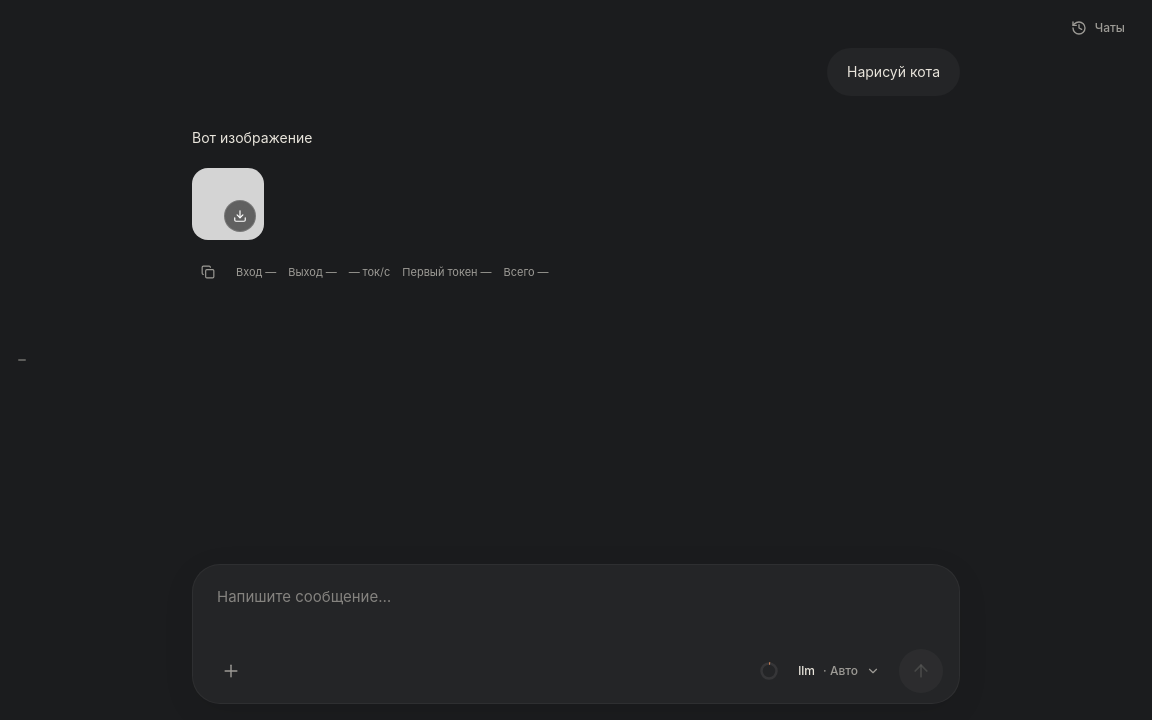
Test: chat media harness › restores the same conversation in StrictMode without resending a message
Expected: the text "Вот изображение" is shown, [192,129,312,146]
Expected: the button named "Отправить" is disabled, [899,649,943,693]
In the text box labelled "сообщение": (576, 609) [209,577,943,641], type "Дальше"
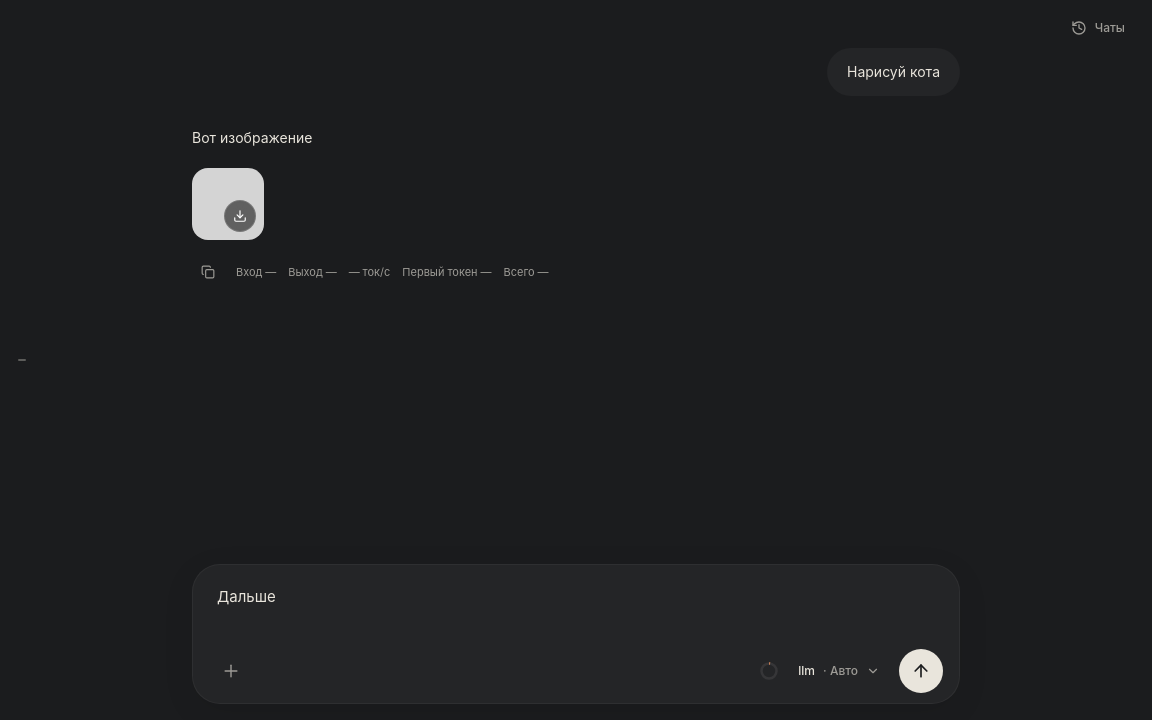
Now the button named "Отправить" is enabled, box [899,649,943,693]
